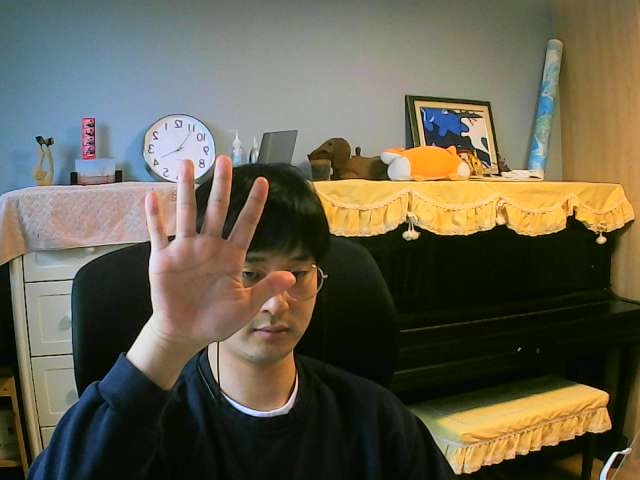five: (128, 147, 297, 354)
